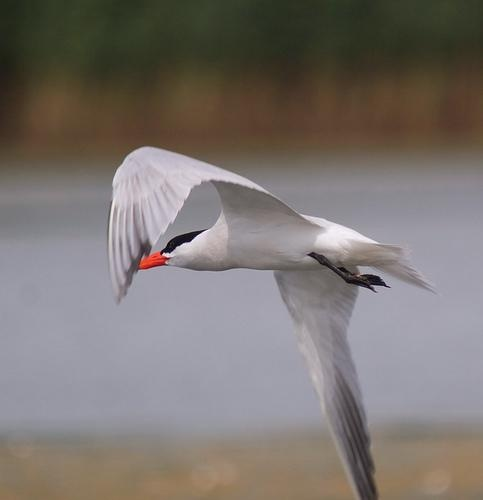bird: (101, 139, 400, 500)
